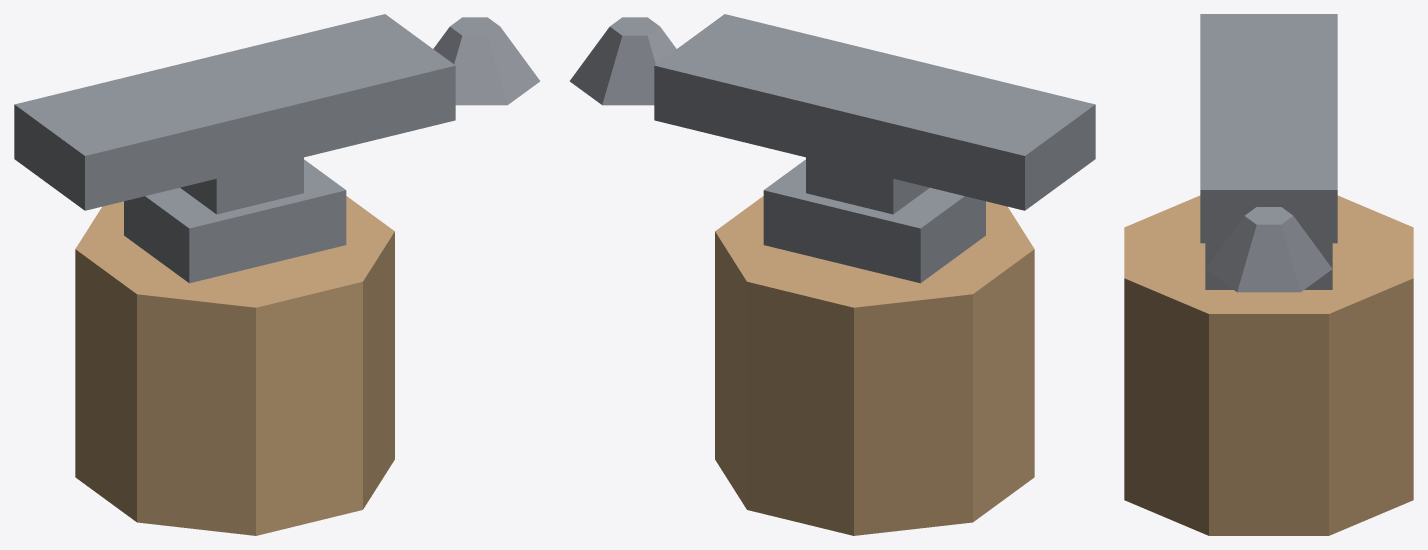
The model's file is anvil.glb.
3 views of the same model, side by side, from view 1: azimuth 30°, elevation 25°; view 2: azimuth 150°, elevation 25°; view 3: azimuth 270°, elevation 25° (orthographic). The views are drawn at different scales.
Parts seen in each view (by area): view 1: Player; view 2: Player; view 3: Player.
Part boxes in pixels (x1,y1,x2,y2): Player: [14, 14, 540, 535]; Player: [569, 14, 1095, 535]; Player: [1124, 14, 1413, 535].
Bounding box in the file's own units: 1.09 × 0.84 × 0.5913.
